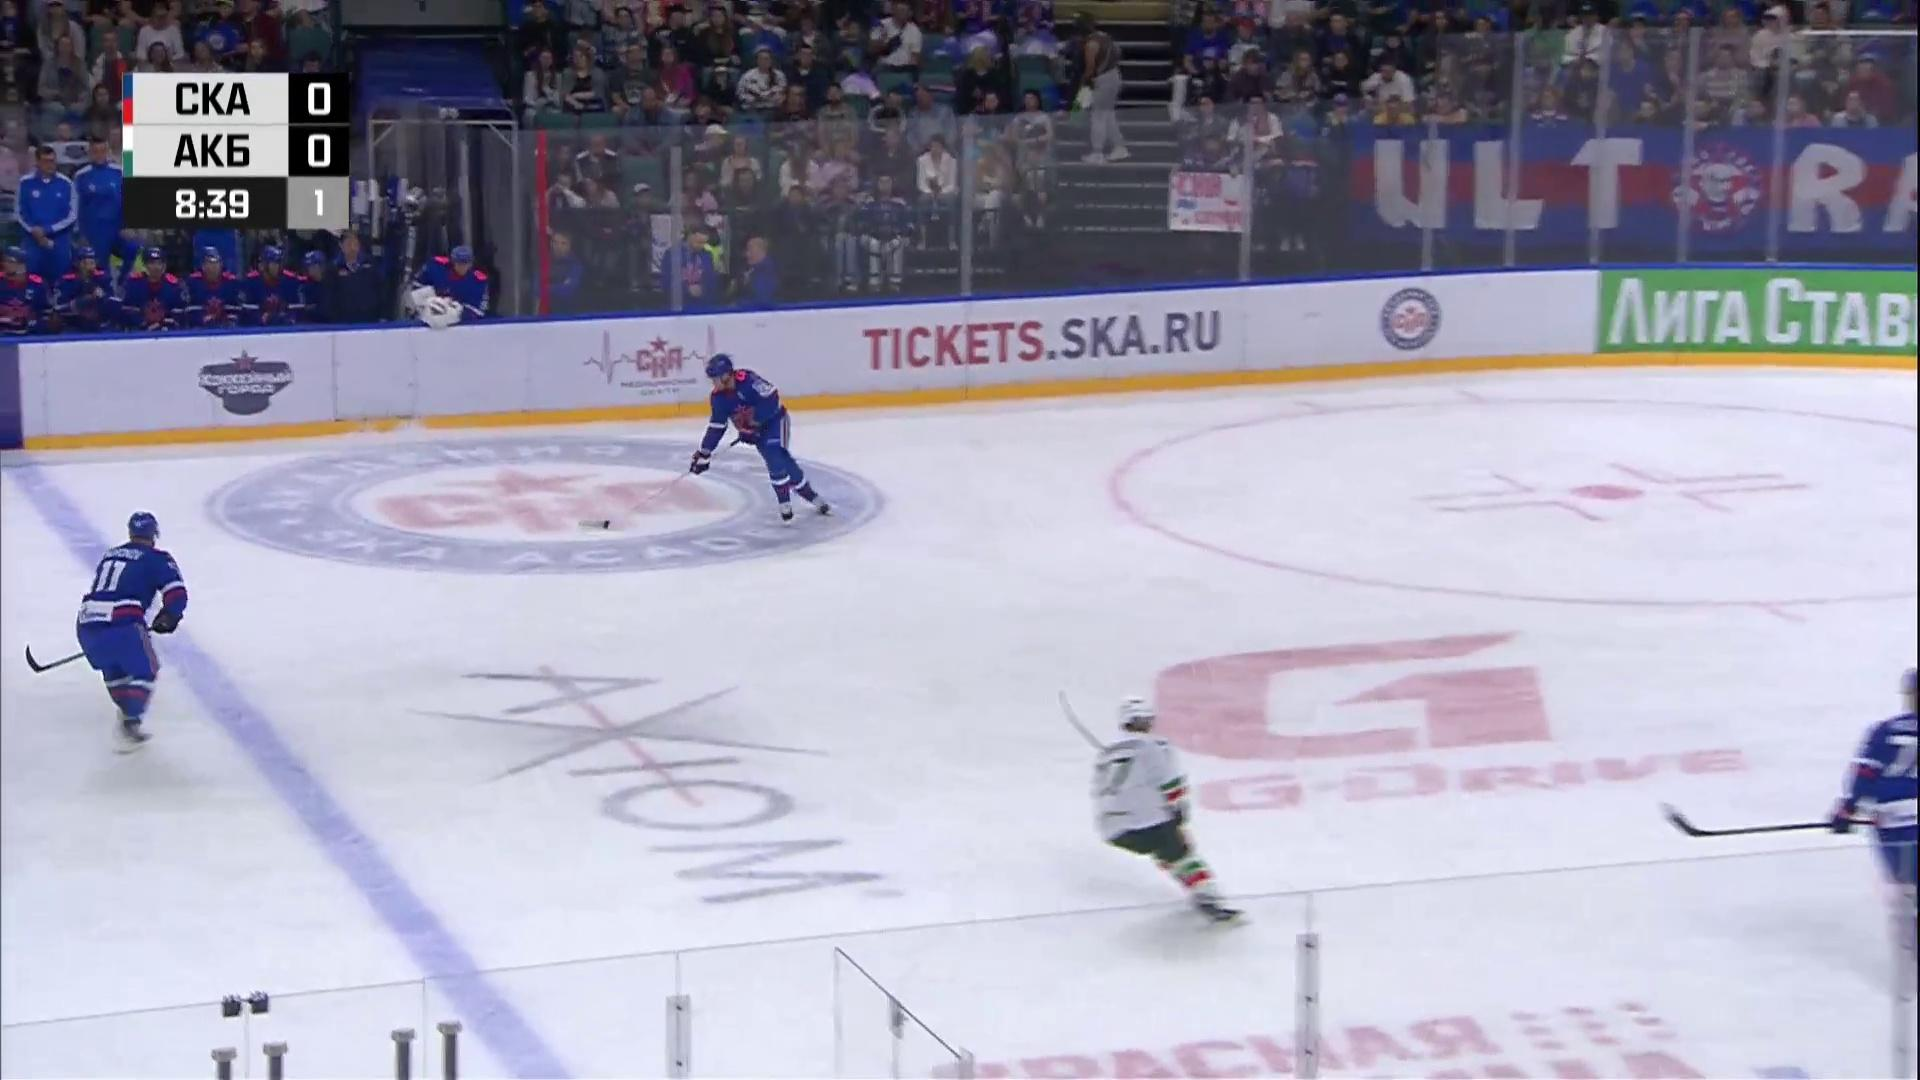ball: (604, 520, 613, 531)
